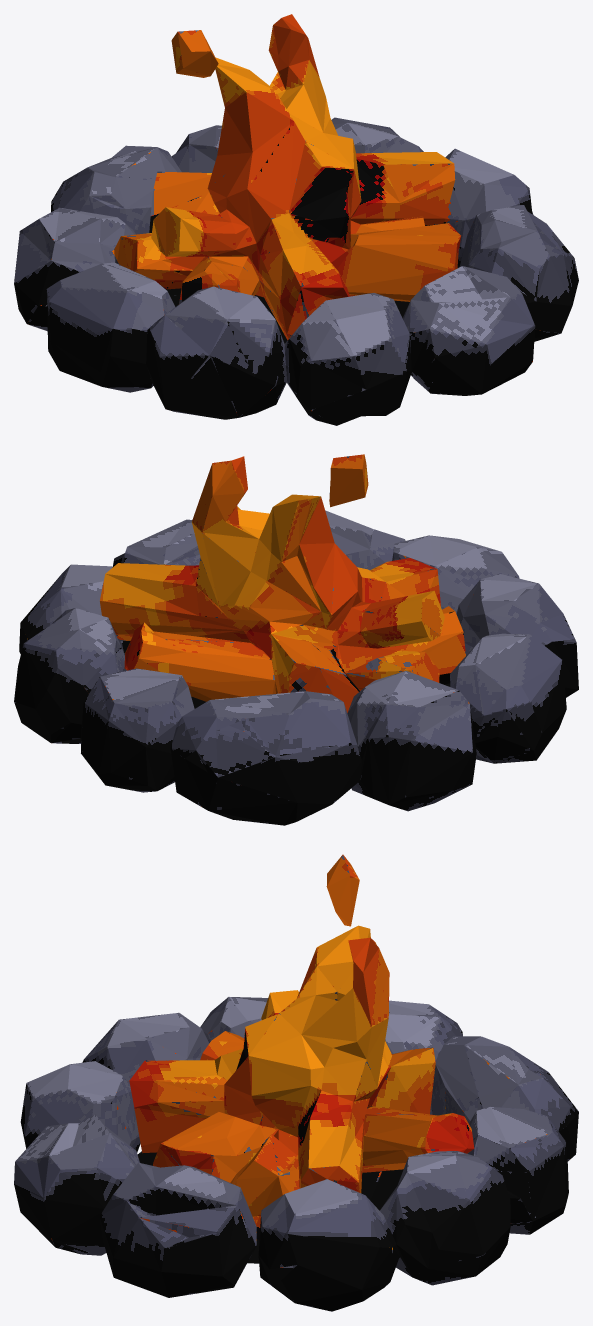
3 views of the same model, one above another, from view 1: azimuth 30°, elevation 25°; view 2: azimuth 150°, elevation 25°; view 3: azimuth 270°, elevation 25° (orthographic).
Parts seen in each view (by area): view 1: OBJ12a; view 2: OBJ12a; view 3: OBJ12a.
Part boxes in pixels (x1,y1,x2,y2): OBJ12a: (14, 14, 578, 425); OBJ12a: (14, 454, 578, 825); OBJ12a: (14, 854, 578, 1311).
Bounding box in the file's own units: 0.3431 × 0.2052 × 0.3427.
1 material, 1 textured.
